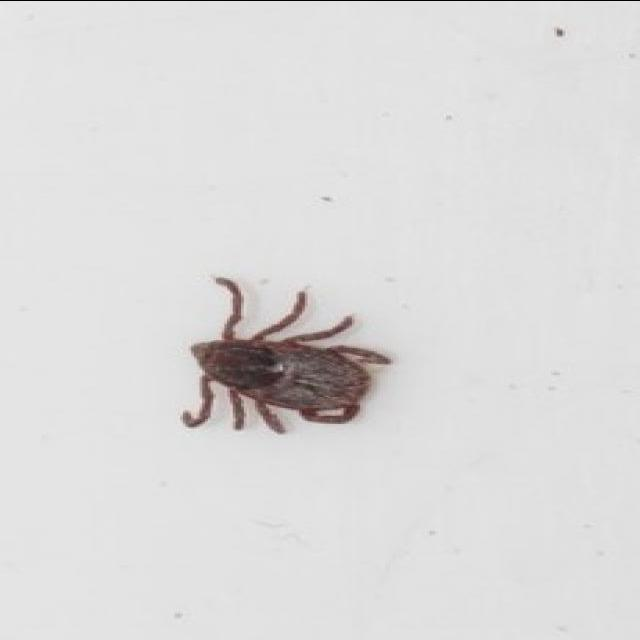Rhipicephalus Sanguineus-F: (180, 276, 388, 434)
